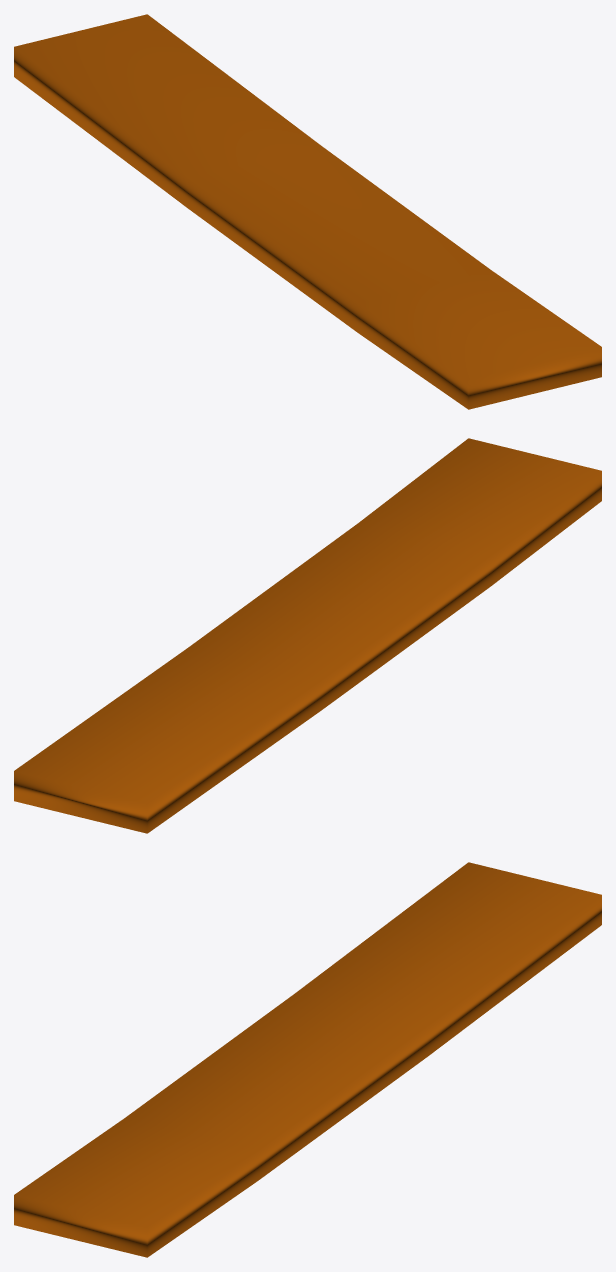
File: Shelf_01.fbx
The picture shows the model from 3 angles, top to bottom: view 1: azimuth 30°, elevation 25°; view 2: azimuth 150°, elevation 25°; view 3: azimuth 330°, elevation 25°; orthographic projection.
Parts seen in each view (by area): view 1: Shelf_01; view 2: Shelf_01; view 3: Shelf_01.
Boxes of the visible parts, x1=… form: Shelf_01: x1=14, y1=14, x2=601, y2=409; Shelf_01: x1=14, y1=438, x2=601, y2=833; Shelf_01: x1=14, y1=862, x2=601, y2=1257.
Bounding box in the file's own units: 33.63 × 8.29 × 198.
